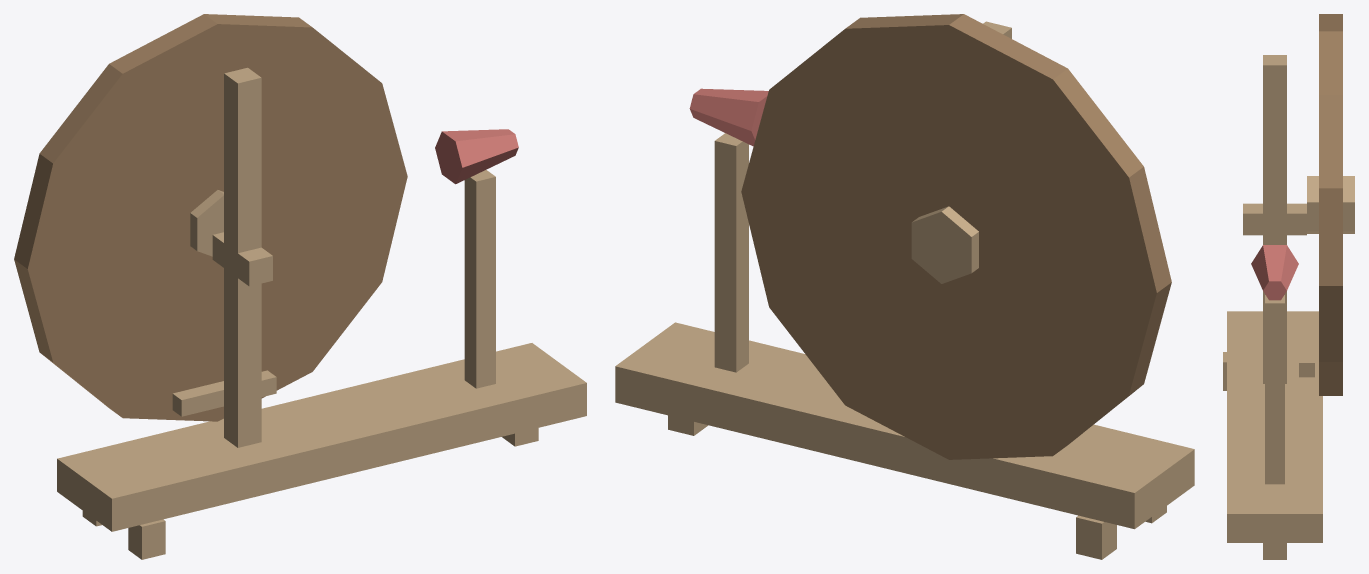
Rendered from prop-spinning-wheel-tl1.fbx.
3 views of the same model, side by side, from view 1: azimuth 30°, elevation 25°; view 2: azimuth 150°, elevation 25°; view 3: azimuth 270°, elevation 25° (orthographic). The views are drawn at different scales.
Parts seen in each view (by area): view 1: prop-spinning-wheel-tl1; view 2: prop-spinning-wheel-tl1; view 3: prop-spinning-wheel-tl1.
Part boxes in pixels (x1,y1,x2,y2): prop-spinning-wheel-tl1: [14, 14, 586, 559]; prop-spinning-wheel-tl1: [615, 14, 1194, 559]; prop-spinning-wheel-tl1: [1223, 14, 1354, 559].
Size of the model in its own units: 64 by 56 by 16.5.
